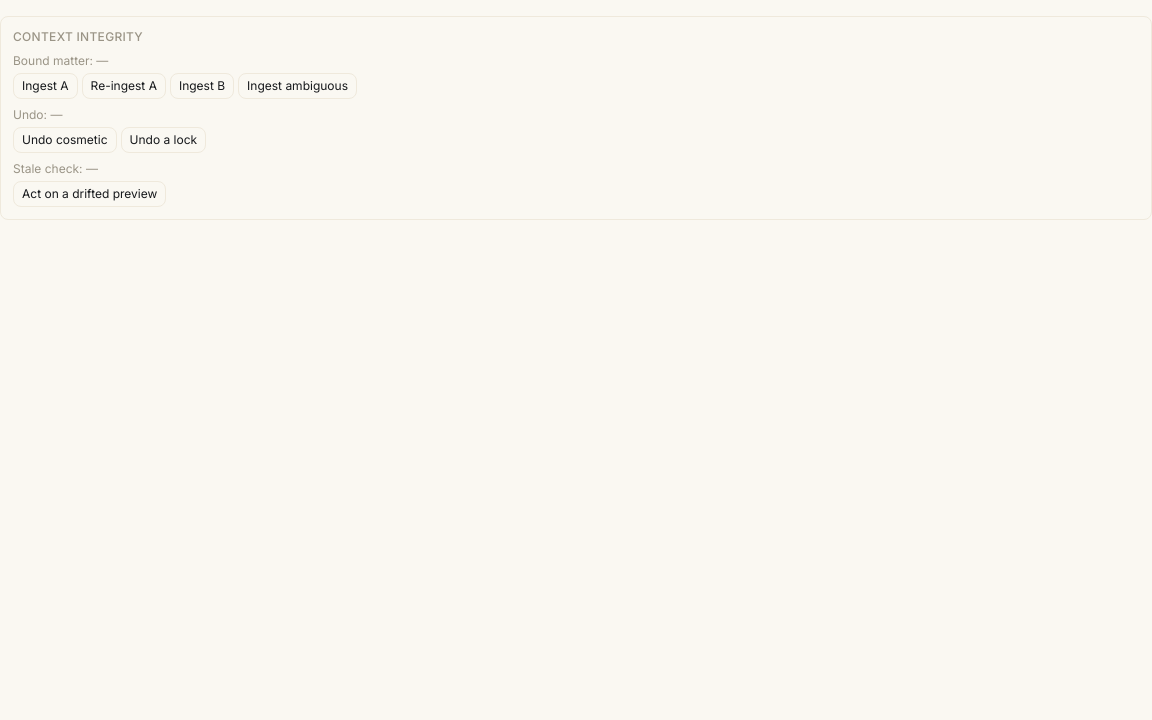
Test: matter-identity ingestion confirm › an ambiguous resolution always confirms
The image size is (1152, 720).
Click the button with test id "ci-ingest-ambiguous": click(298, 86) [238,73,357,99]
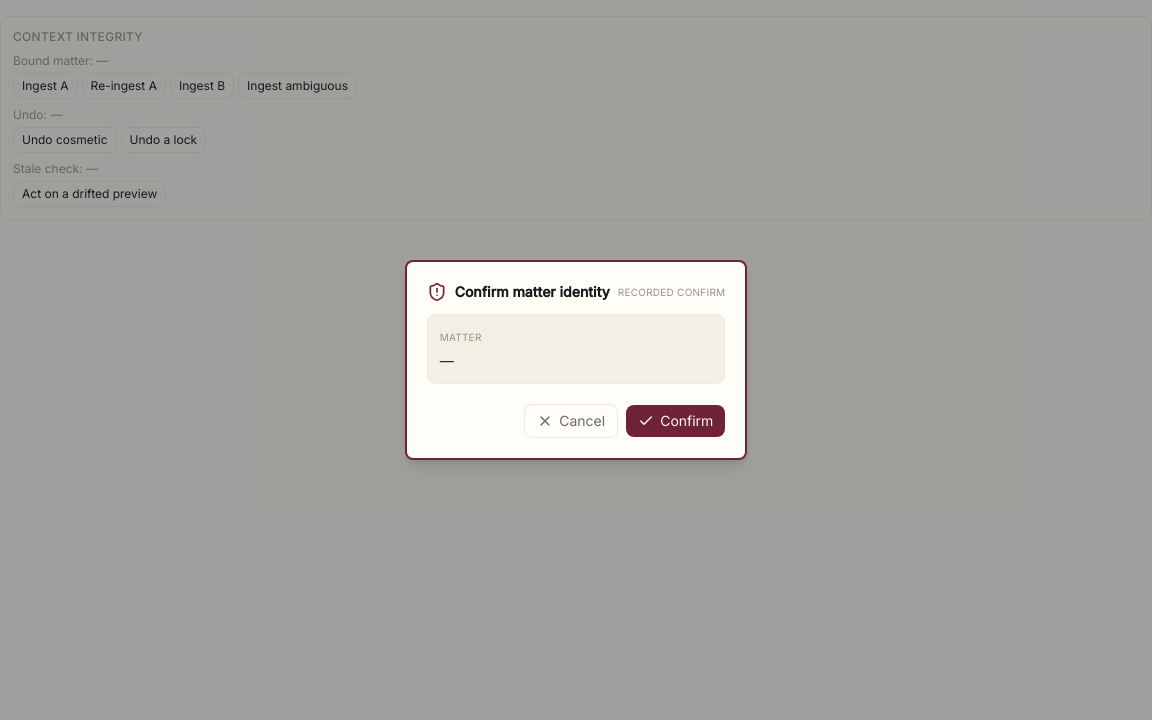
Result: the element with test id "confirm-overlay" is shown
